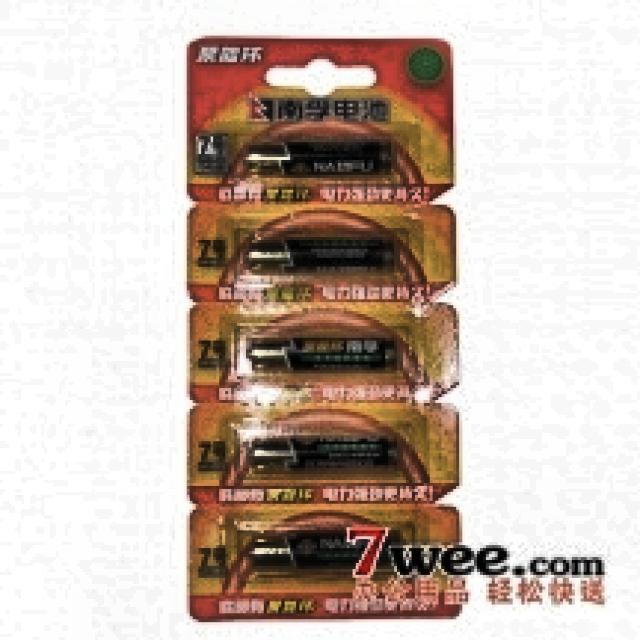Non-Valuable Waste - Batteries: (188, 37, 464, 619)
